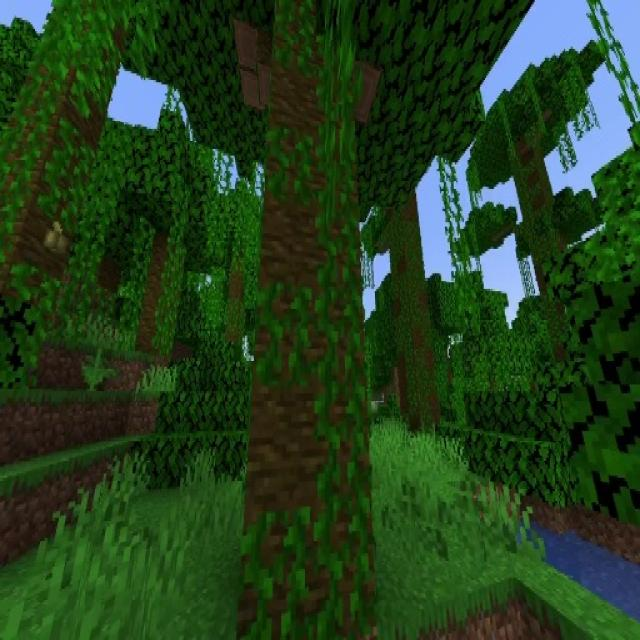jungle: (456, 30, 604, 328), (111, 103, 220, 354)
jungle_log: (237, 2, 379, 636), (0, 0, 120, 313), (390, 209, 438, 428), (512, 165, 566, 289), (134, 245, 186, 349)
